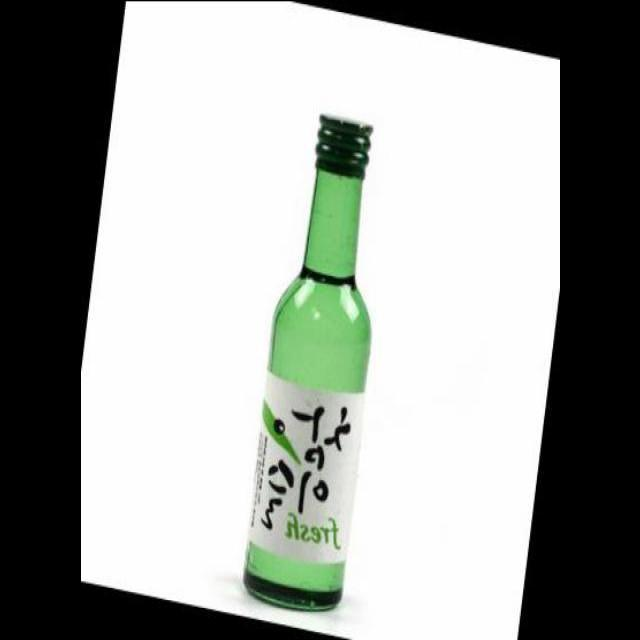Glass: (230, 102, 386, 626)
